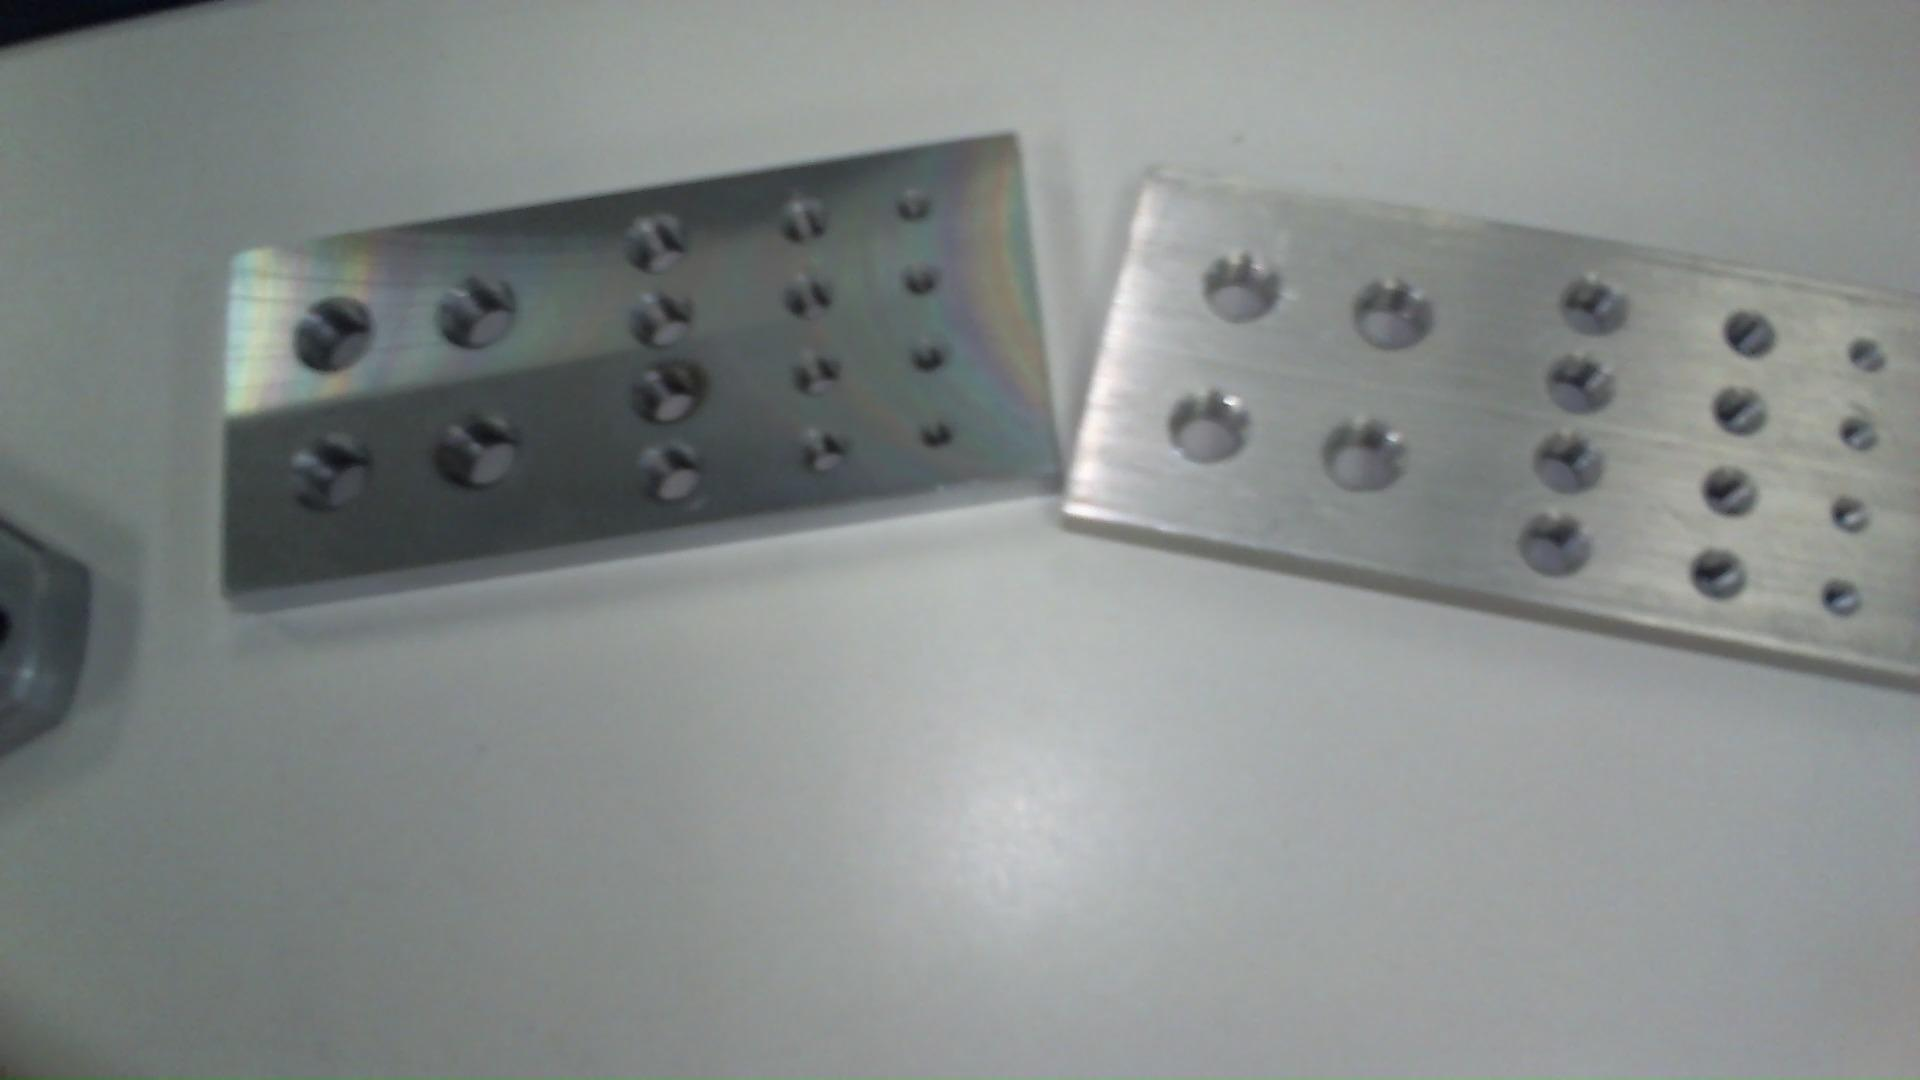hole: (290, 425, 390, 524), (433, 398, 521, 492), (291, 287, 378, 380), (434, 270, 526, 357), (1193, 244, 1276, 339), (1346, 277, 1437, 361), (1166, 386, 1258, 469), (1320, 415, 1407, 502), (625, 356, 711, 431), (1510, 513, 1590, 588), (624, 290, 709, 348), (1557, 276, 1633, 340), (615, 216, 692, 278), (637, 442, 711, 506), (1544, 353, 1617, 418), (790, 422, 864, 485), (1691, 545, 1759, 612), (1705, 378, 1780, 439), (1534, 426, 1600, 492), (1721, 298, 1782, 361), (887, 257, 945, 323), (1697, 463, 1763, 521), (767, 196, 831, 248), (789, 349, 849, 400), (916, 410, 967, 467), (1815, 574, 1867, 626), (889, 190, 940, 240), (1842, 327, 1887, 384), (1837, 410, 1888, 458), (782, 273, 831, 322), (907, 340, 956, 382), (1824, 497, 1870, 541)
